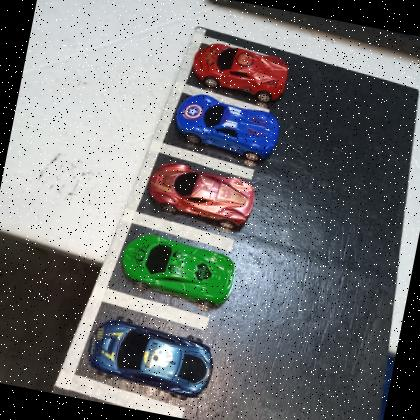Car: (80, 311, 221, 406), (114, 227, 242, 313), (168, 88, 286, 166), (144, 156, 260, 233), (186, 35, 294, 106)
